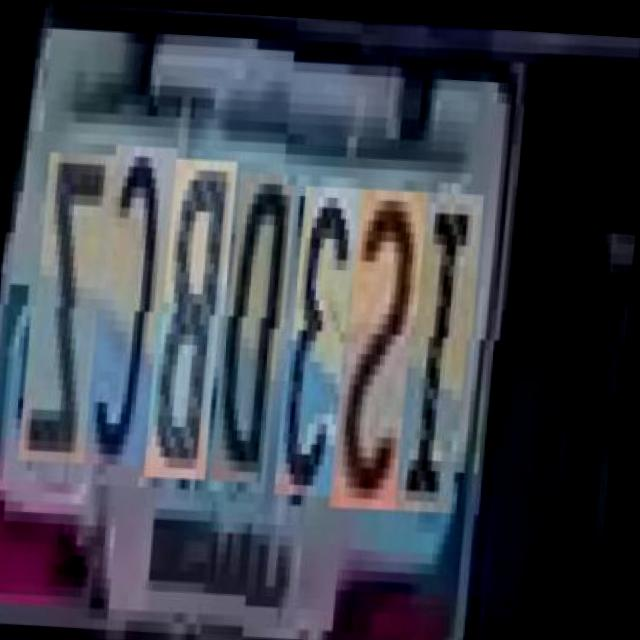3: (283, 180, 362, 493)
b: (154, 166, 236, 490)
c: (93, 152, 176, 475)
d: (218, 177, 297, 492)
i: (401, 185, 483, 509)
s: (339, 183, 428, 507)
z: (26, 159, 114, 474)
